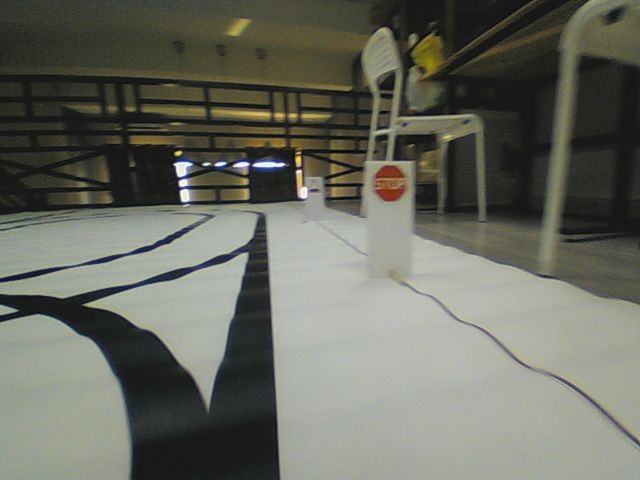Stop: (372, 163, 407, 203)
